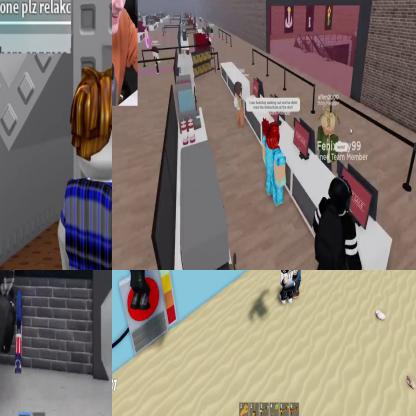Roblox-Avatar: (58, 64, 112, 270), (1, 271, 45, 416), (312, 177, 366, 270), (262, 119, 288, 208), (318, 109, 342, 173), (127, 271, 162, 312), (280, 271, 300, 307), (235, 82, 246, 130), (293, 271, 306, 300), (152, 47, 162, 75)
